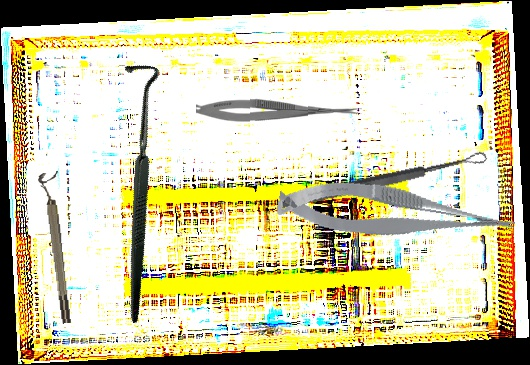Fixation Ring: (37, 171, 74, 325)
Hook Surgical: (13, 53, 255, 325)
Micro Scissor: (274, 164, 518, 266), (195, 96, 363, 123)
Surgical Spoon: (275, 149, 489, 213)
